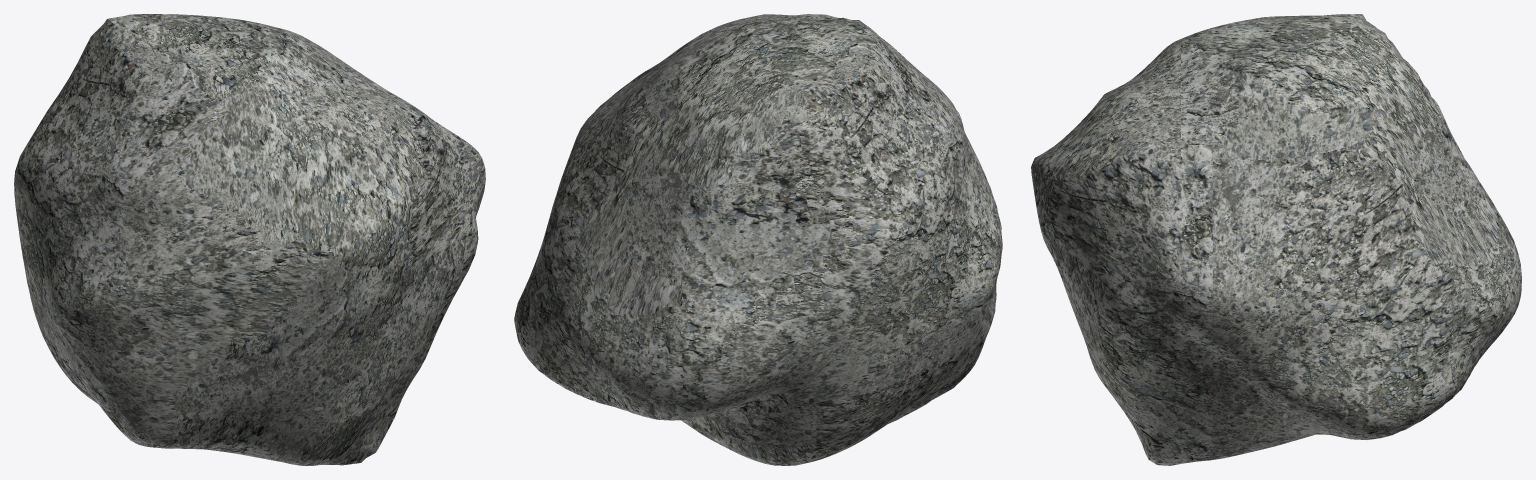
The model's file is medium asteroid.fbx.
The picture shows the model from 3 angles, left to right: view 1: azimuth 30°, elevation 25°; view 2: azimuth 150°, elevation 25°; view 3: azimuth 270°, elevation 25°; orthographic projection. The views are drawn at different scales.
Visible parts, largest first — view 1: Mesh; view 2: Mesh; view 3: Mesh.
Boxes of the visible parts, x1,y1,x2,y2 form: Mesh: [14, 14, 485, 465]; Mesh: [514, 14, 1002, 465]; Mesh: [1031, 14, 1521, 465].
Bounding box in the file's own units: 1.13 × 1.05 × 1.21.
Materials: 1 (1 with a texture image).
